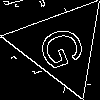G: (36, 20, 96, 73)
